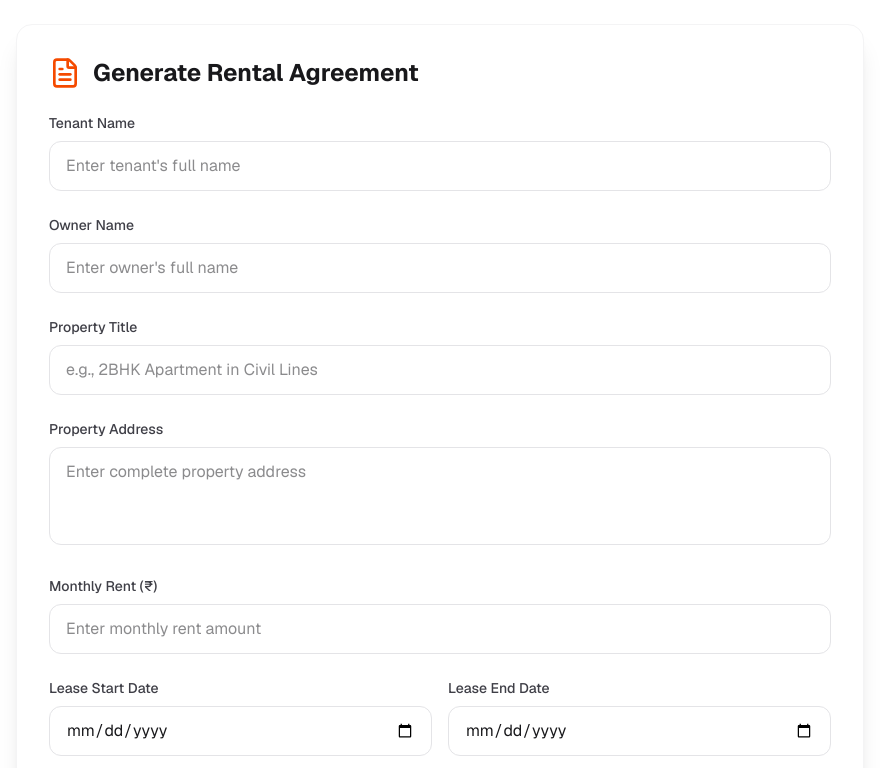
Test: AgreementGeneratorForm Component › Form Validation › should validate monthly rent is greater than 0
Type "0" into the number field with placeholder "Enter monthly rent amount" at (440, 629), box [49,604,831,654]
(page scrolled)
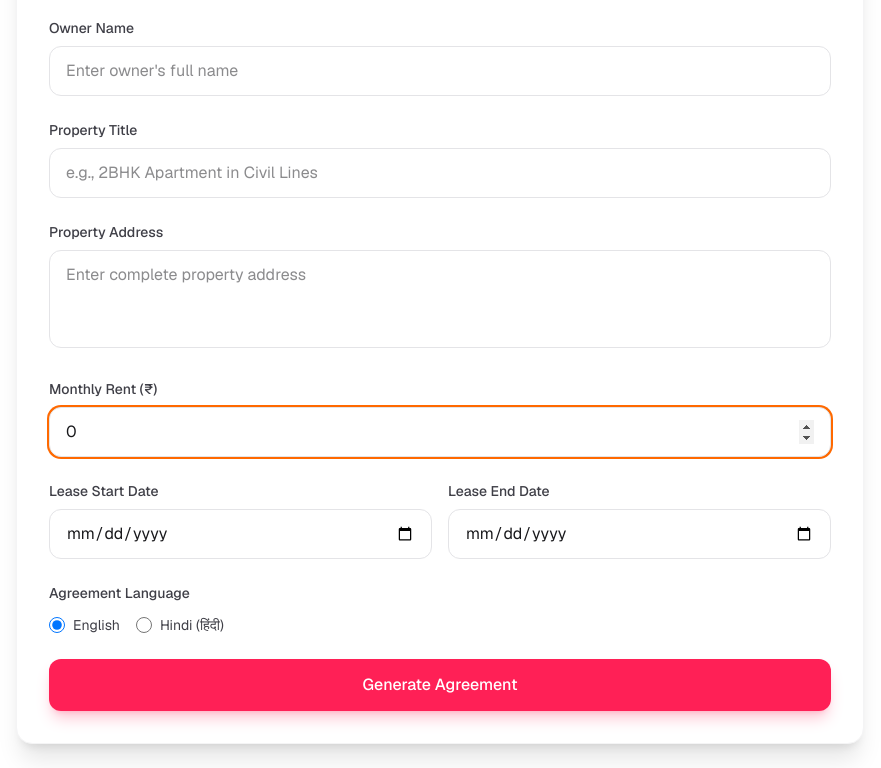
Click the button "Generate Agreement" at (440, 685), box [49,659,831,711]
(page scrolled)
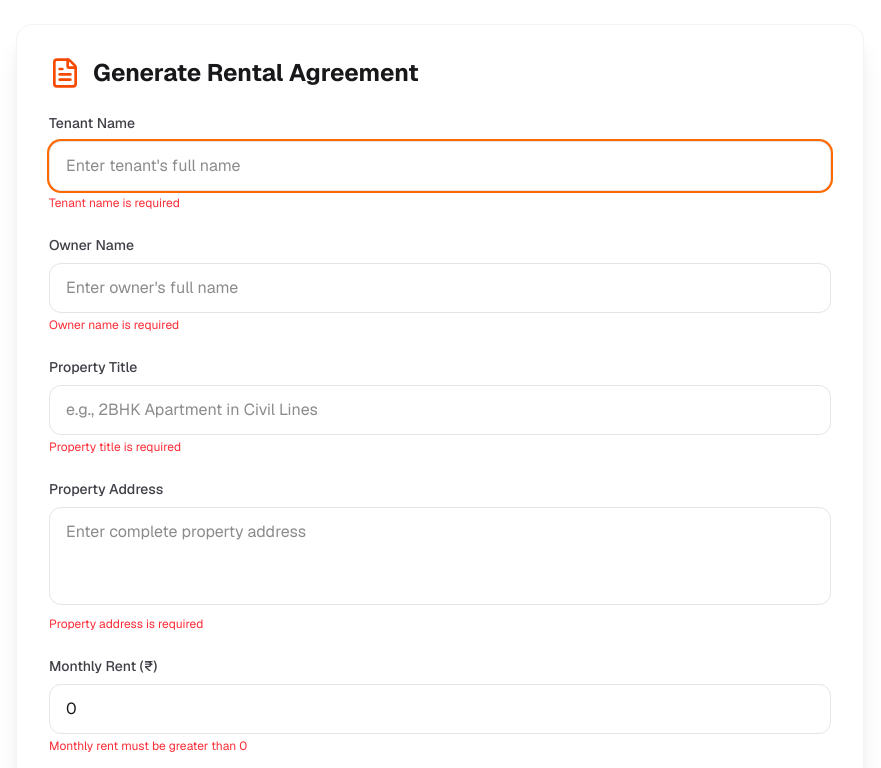
Check: the text "Monthly rent must be greater than 0" is shown, box [49,738,247,754]
